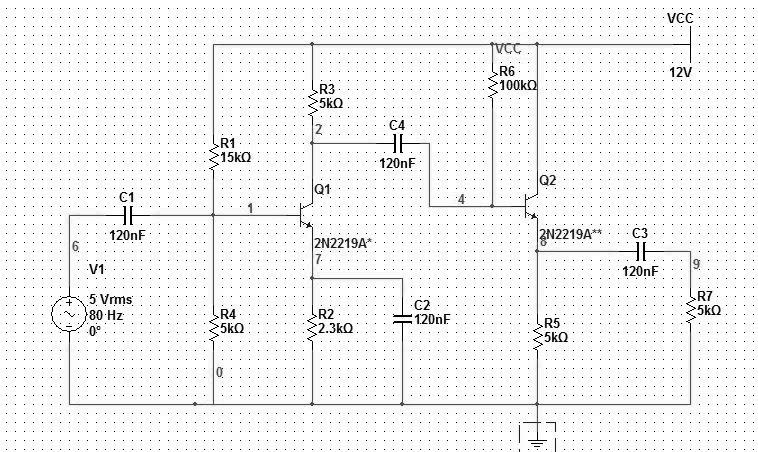cap1: (631, 239, 652, 265), (389, 309, 415, 328), (390, 130, 408, 157), (119, 205, 138, 228)
power2: (49, 294, 87, 335)
res2: (305, 85, 321, 122), (207, 308, 221, 348), (683, 292, 698, 329), (485, 68, 500, 104), (304, 309, 318, 347), (207, 138, 221, 174), (531, 318, 545, 354)
triode: (294, 192, 316, 236), (519, 189, 543, 225)
